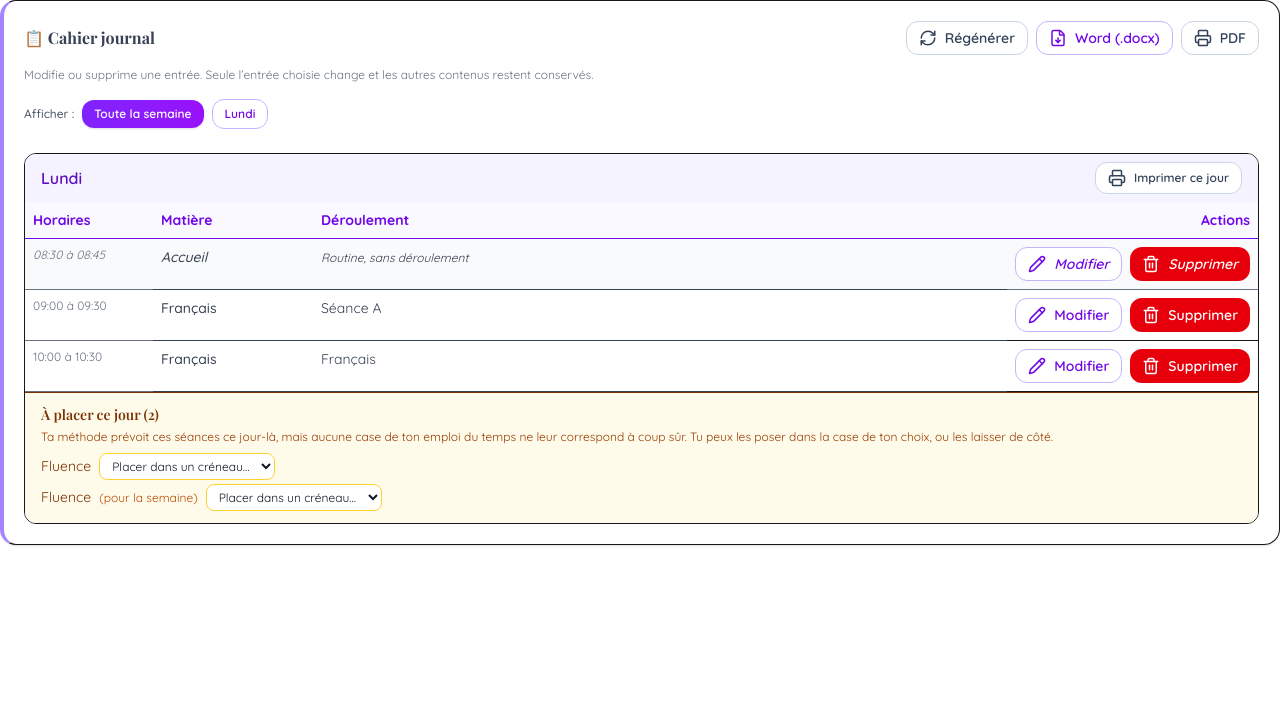
Scenario: CahierJournalEditor › poser une séance à placer dans un créneau › ne retire qu’une des deux entrées identiques, celle qu’on a posée
Expected: the text "Séance A" is shown, [313, 290, 1007, 340]
Select "10:00 Français" in the dropdown named "Placer « Fluence » dans un créneau" next to "(pour la semaine)": [294, 498] box [206, 484, 382, 511]
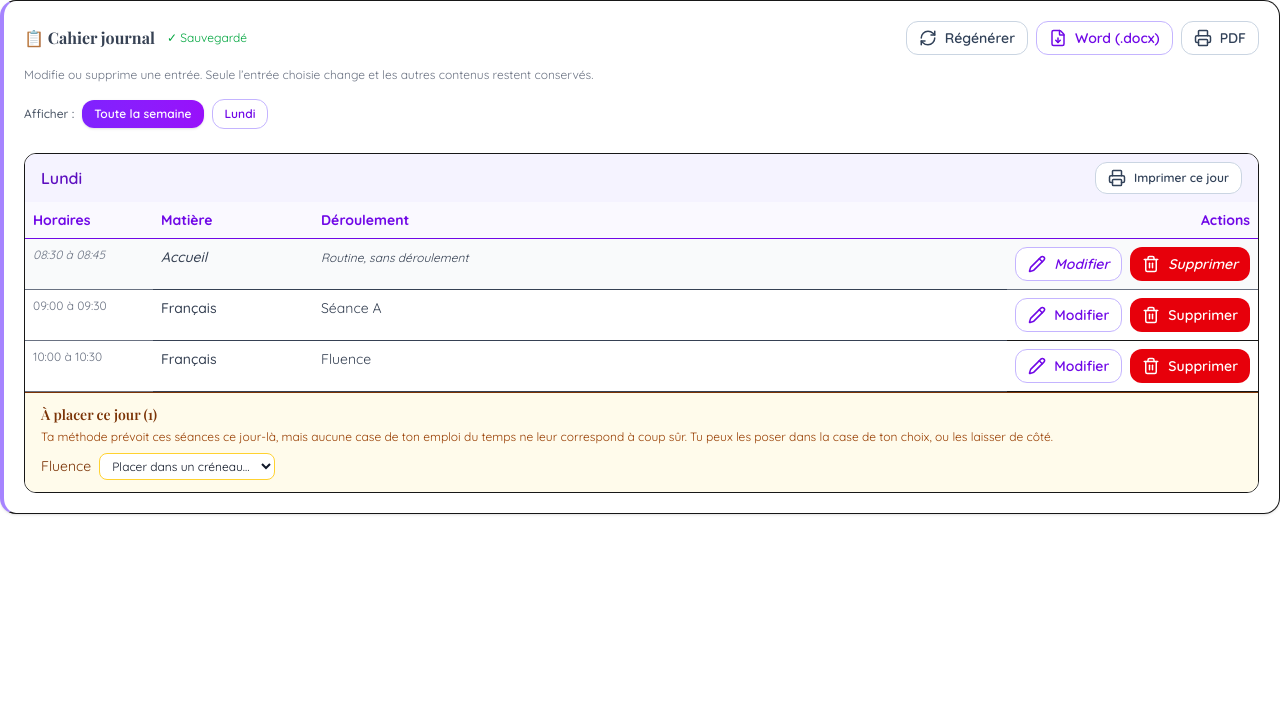
Expected: the element "À placer ce jour (1)" is shown, [25, 392, 1258, 492]
